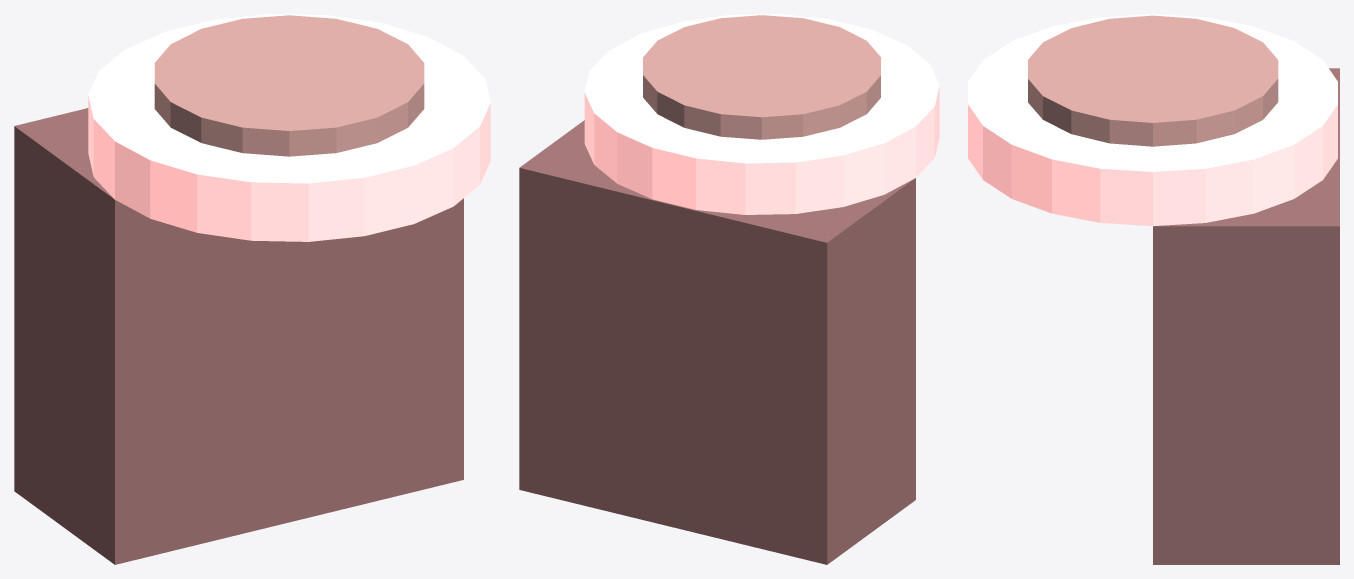
File: Bounce_VerticalSlab.glb
3 views of the same model, side by side, from view 1: azimuth 30°, elevation 25°; view 2: azimuth 150°, elevation 25°; view 3: azimuth 270°, elevation 25° (orthographic). The views are drawn at different scales.
Parts seen in each view (by area): view 1: Bounce_VerticalSlab_body, bounce_base.003, bounce_fill_ring.003; view 2: Bounce_VerticalSlab_body, bounce_base.003, bounce_fill_ring.003; view 3: Bounce_VerticalSlab_body, bounce_base.003, bounce_fill_ring.003.
Part boxes in pixels (box(x1,y1,x2,y2)): Bounce_VerticalSlab_body: box(14, 108, 463, 564); bounce_base.003: box(88, 14, 490, 241); bounce_fill_ring.003: box(154, 15, 424, 156); Bounce_VerticalSlab_body: box(519, 120, 915, 564); bounce_base.003: box(584, 14, 939, 214); bounce_fill_ring.003: box(643, 15, 880, 139); Bounce_VerticalSlab_body: box(1153, 68, 1339, 564); bounce_base.003: box(968, 14, 1337, 226); bounce_fill_ring.003: box(1028, 15, 1278, 146).
Size of the model in its own units: 1 by 1.23 by 0.9949.
